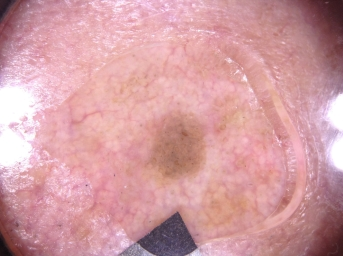seborrheic keratosis: (124, 99, 219, 192)
